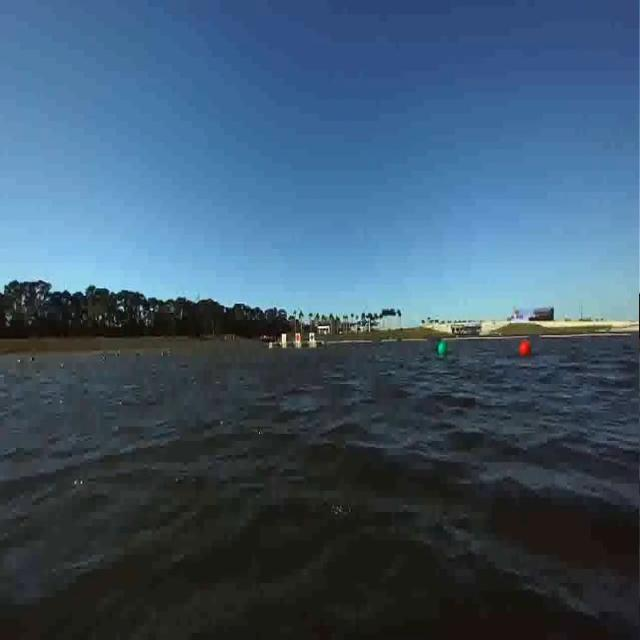green-buoy: (439, 341, 449, 357)
red-buoy: (520, 340, 532, 359)
